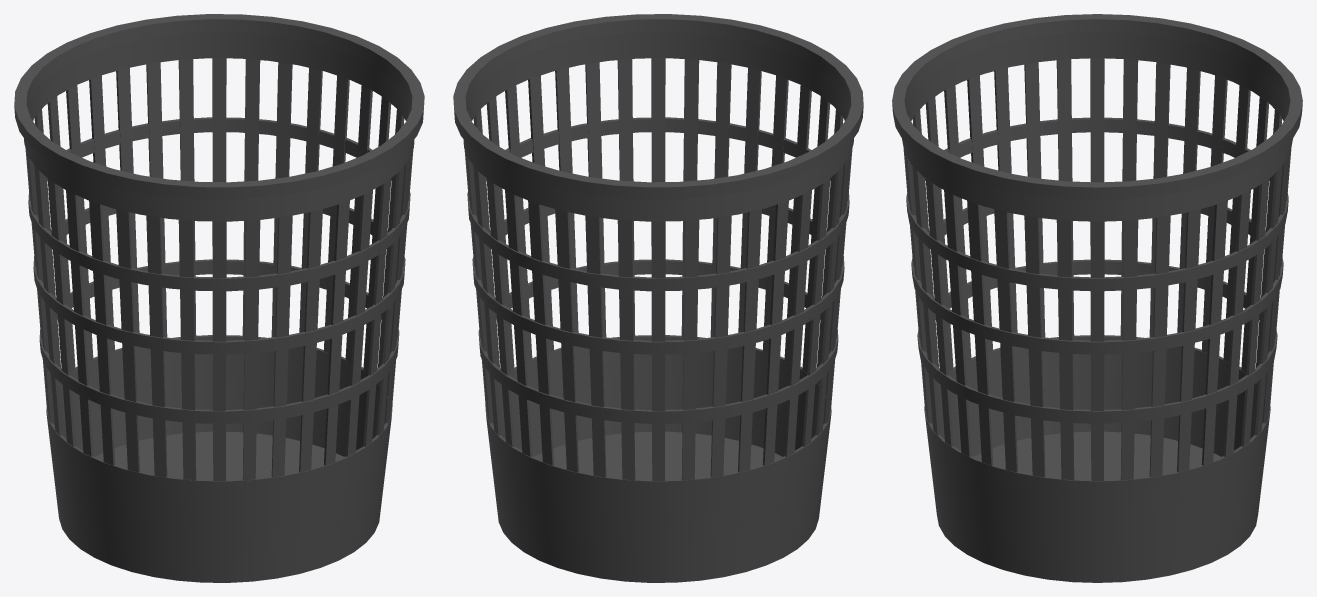
Rendered from Trashcan.FBX.
3 views of the same model, side by side, from view 1: azimuth 30°, elevation 25°; view 2: azimuth 150°, elevation 25°; view 3: azimuth 270°, elevation 25° (orthographic).
Visible parts, largest first — view 1: Trashcan; view 2: Trashcan; view 3: Trashcan.
Part boxes in pixels (x1=…): Trashcan: x1=14, y1=14, x2=424, y2=582; Trashcan: x1=453, y1=14, x2=863, y2=582; Trashcan: x1=892, y1=14, x2=1302, y2=582.
Size of the model in its own units: 30.61 by 34.06 by 30.61.
Materials: 1 (1 with a texture image).
